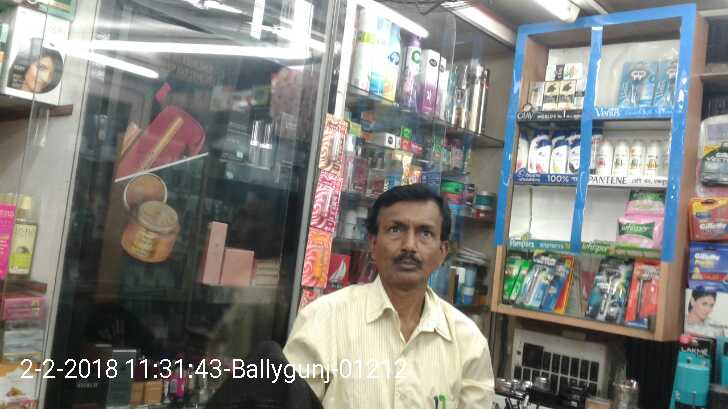ambipureVesus: (384, 25, 401, 102)
gillete: (589, 259, 630, 323), (632, 258, 657, 330), (526, 250, 552, 310), (692, 202, 728, 242), (688, 247, 728, 281), (552, 255, 576, 310), (700, 149, 728, 186)
venus: (650, 58, 677, 103), (622, 62, 650, 103)
